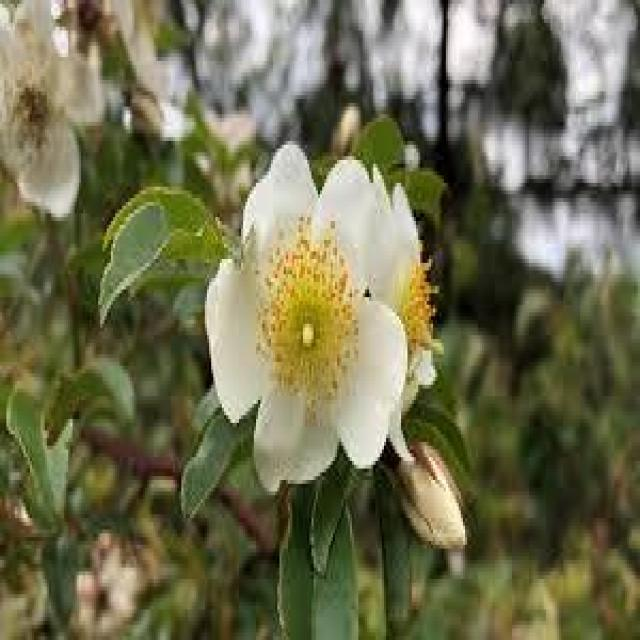organic waste: (200, 145, 440, 488)
